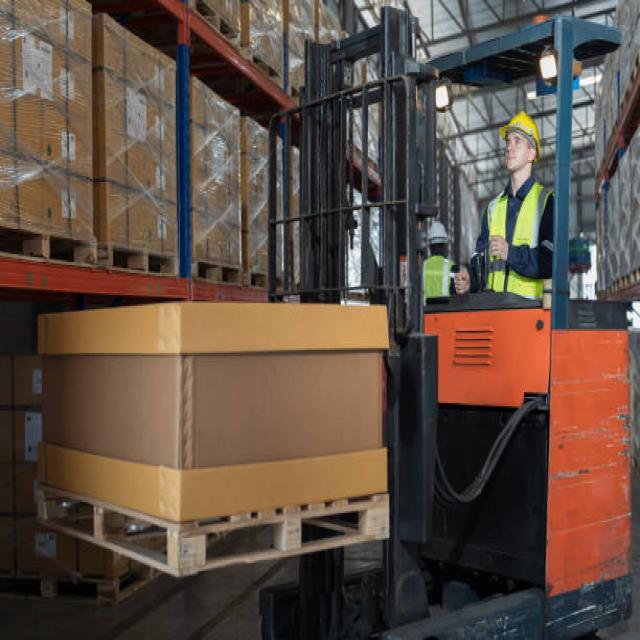Wooden-Pallets: (30, 484, 394, 582)
